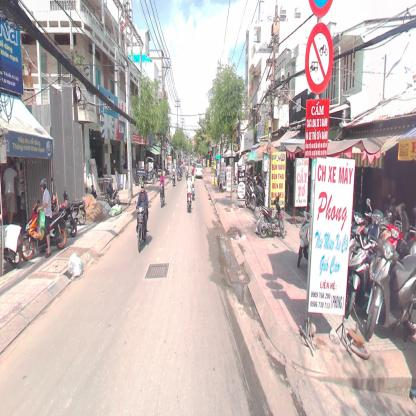Cam con lai: (304, 24, 334, 92)
Cam dung va do: (306, 0, 332, 19)
